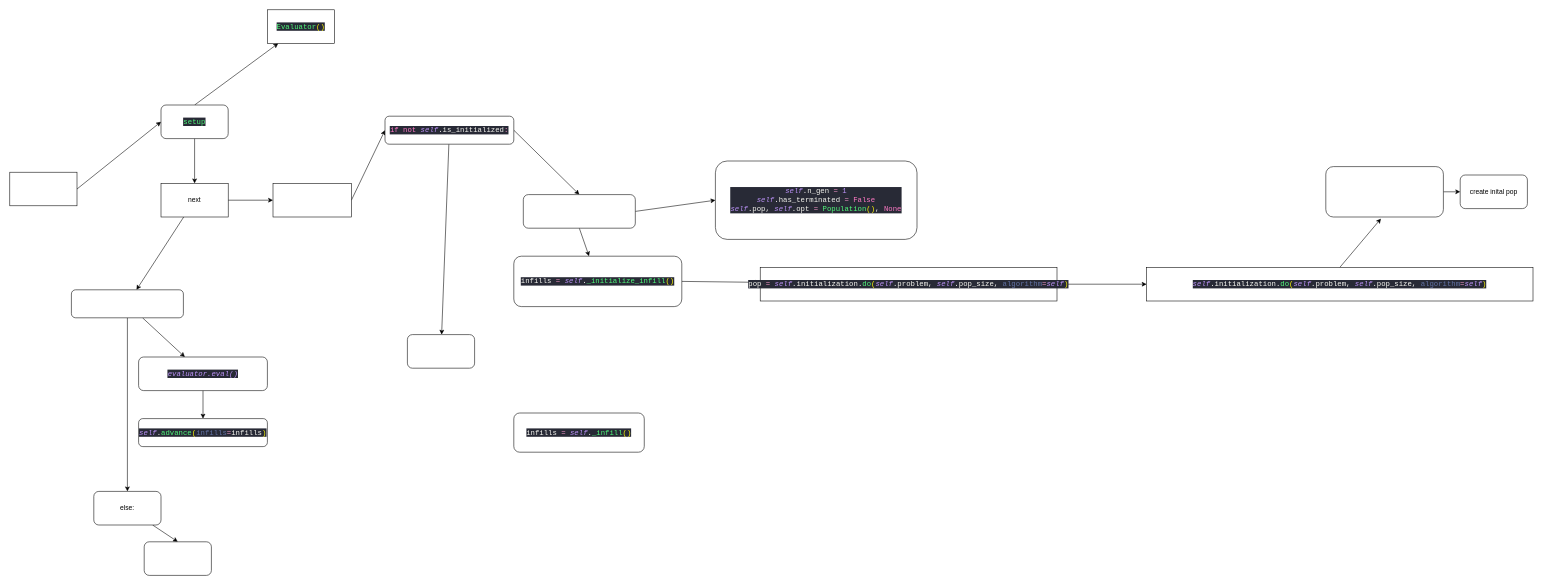
Image size: 1543x585. Some labels were removed from this diagram. Each missing label, with the box of its shape:
class Initialization :: (1325, 166, 1443, 217)
else: (407, 334, 475, 368)
if infills is not None :: (71, 289, 183, 318)
infill: (272, 183, 351, 217)
run: (9, 172, 77, 206)
self . _initialize (): (523, 194, 635, 228)
self . advance (): (144, 541, 211, 575)
